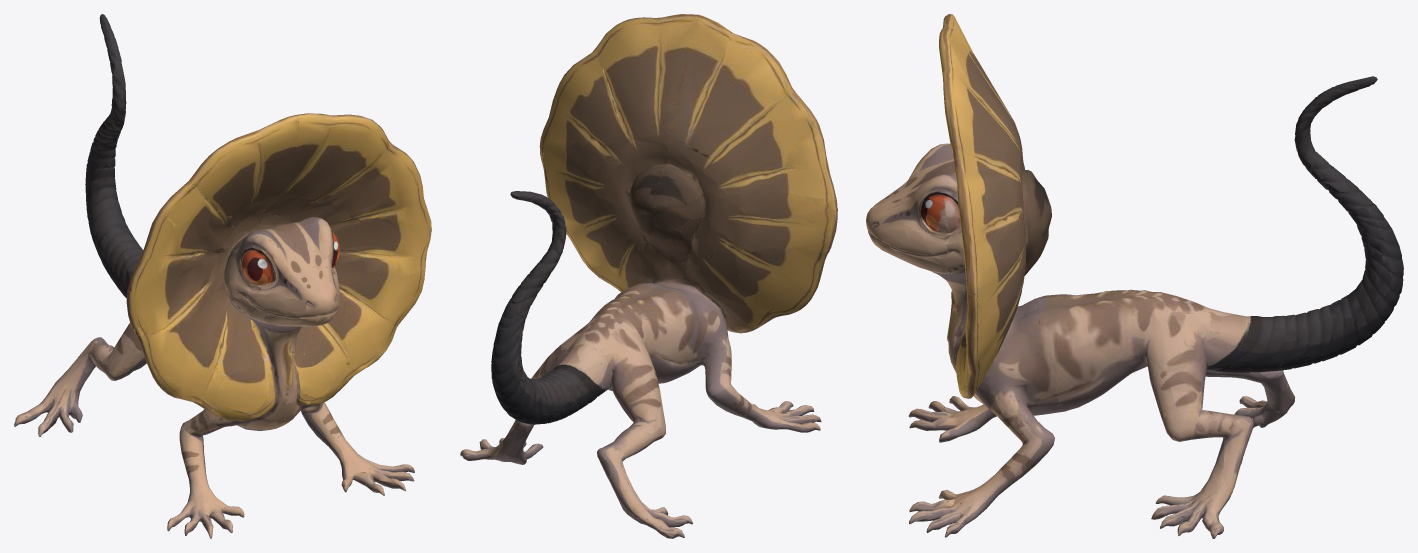
3 renders of one model, left to right at view 1: azimuth 30°, elevation 25°; view 2: azimuth 150°, elevation 25°; view 3: azimuth 270°, elevation 25°, orthographic. The views are drawn at different scales.
Visible parts, largest first — view 1: Mesh_0; view 2: Mesh_0; view 3: Mesh_0.
Boxes of the visible parts, bbox=[...] form: Mesh_0: bbox=[14, 14, 431, 538]; Mesh_0: bbox=[460, 14, 837, 538]; Mesh_0: bbox=[866, 14, 1403, 538].
Size of the model in its own units: 1.39 by 1.71 by 1.9.
Materials: 1 (1 with a texture image).
